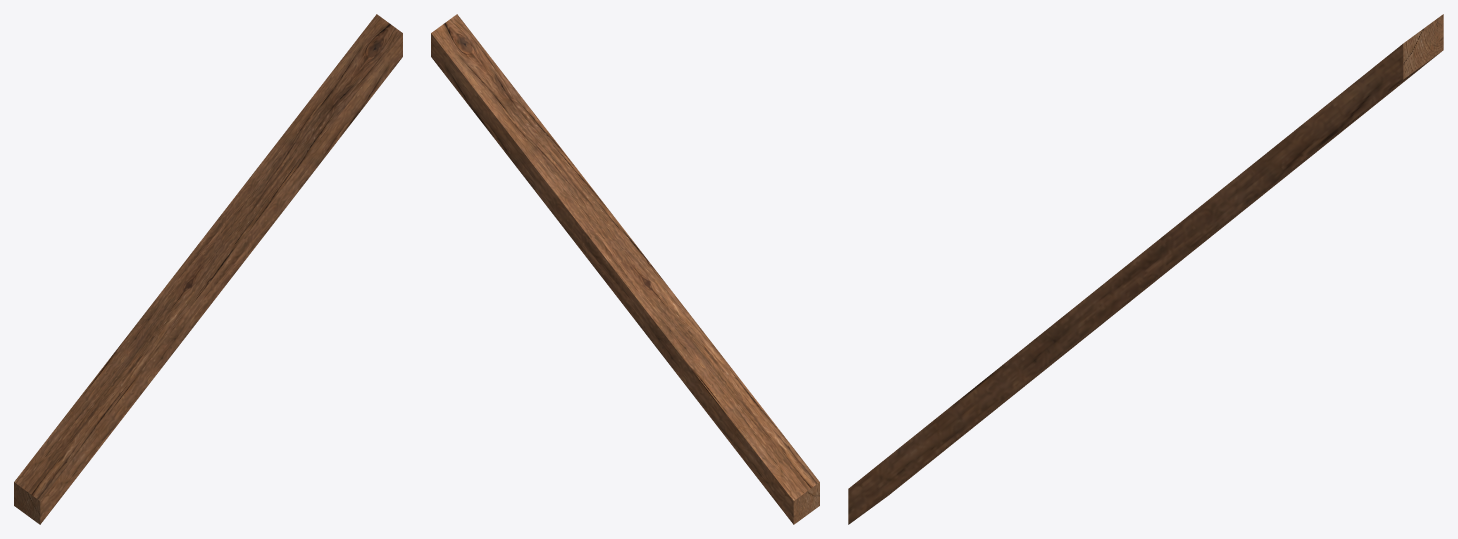
The model's file is W15_GableRising_RoofSeam.fbx.
The picture shows the model from 3 angles, left to right: view 1: azimuth 30°, elevation 25°; view 2: azimuth 150°, elevation 25°; view 3: azimuth 330°, elevation 25°; orthographic projection. The views are drawn at different scales.
Visible parts, largest first — view 1: OpeningKit_W15_Rising_Seam_Export; view 2: OpeningKit_W15_Rising_Seam_Export; view 3: OpeningKit_W15_Rising_Seam_Export.
Part boxes in pixels (left/top/right/bottom): OpeningKit_W15_Rising_Seam_Export: left=14, top=14, right=402, bottom=524; OpeningKit_W15_Rising_Seam_Export: left=431, top=14, right=819, bottom=524; OpeningKit_W15_Rising_Seam_Export: left=848, top=14, right=1443, bottom=524.
Bounding box in the file's own units: 2 × 2.12 × 0.25.
